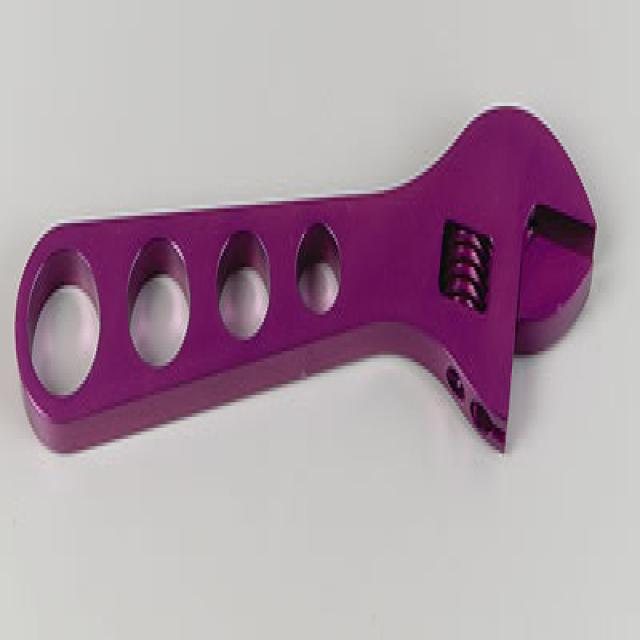wrench: (16, 87, 640, 525)
